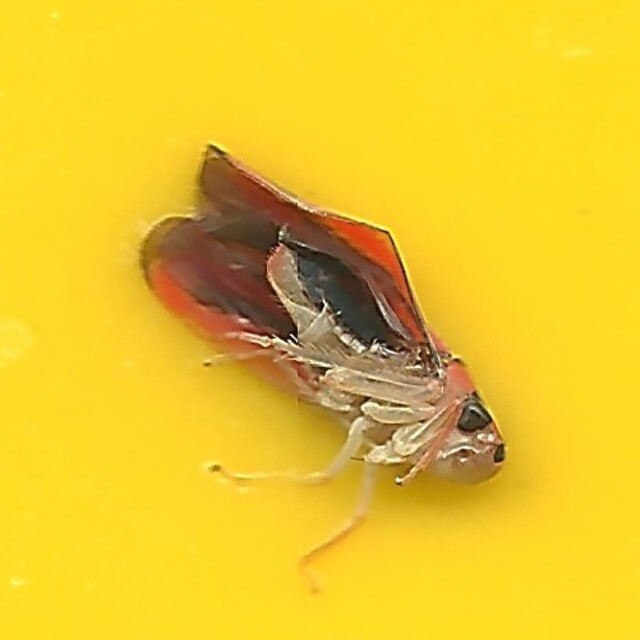Hemiptera: (128, 142, 512, 498)
